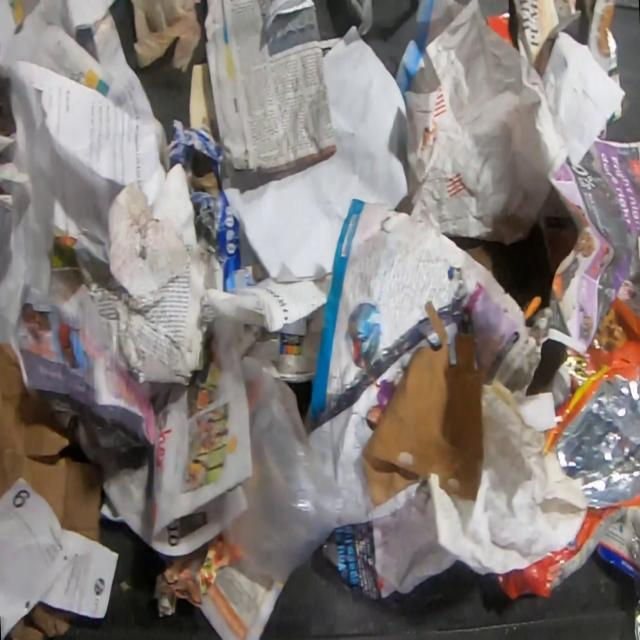cardboard: (0, 341, 104, 543), (161, 117, 241, 282), (7, 598, 74, 640), (464, 244, 494, 275)
soft_plastic: (493, 298, 640, 604), (207, 313, 346, 587), (128, 0, 202, 74)
